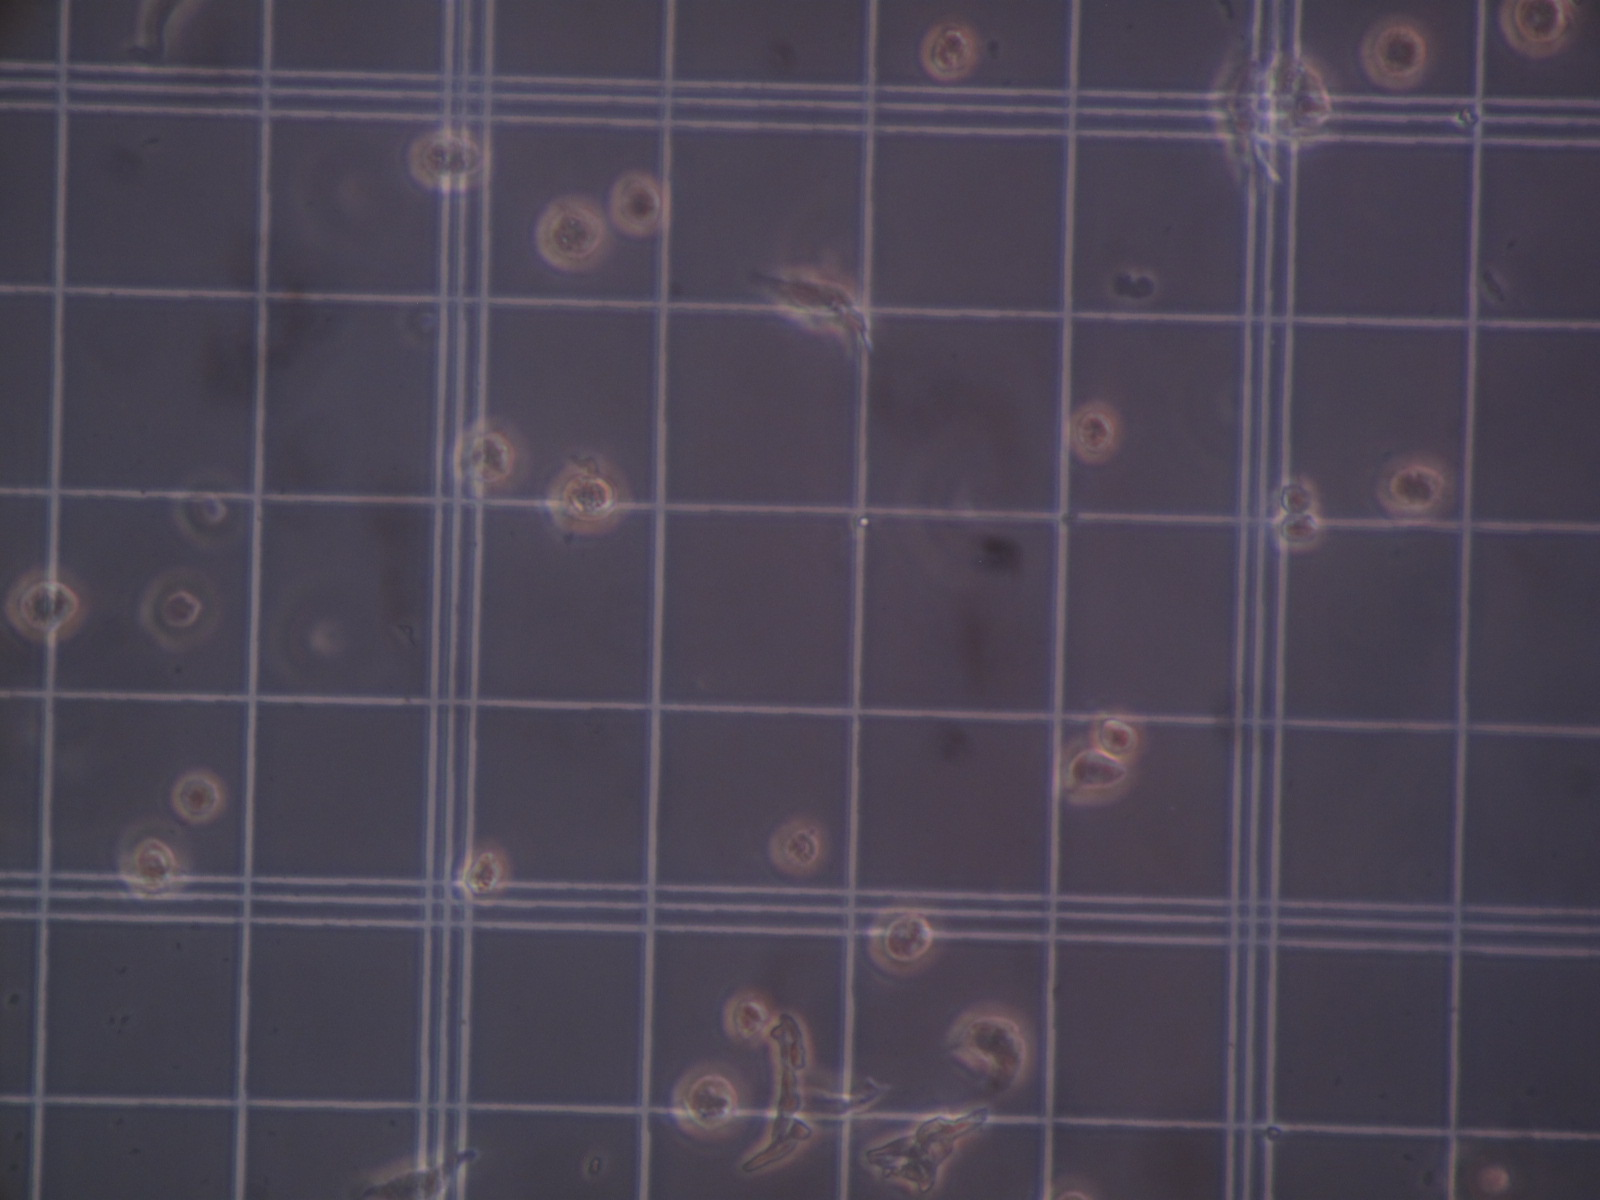hemo: (946, 998, 1034, 1087), (666, 1059, 748, 1142), (4, 565, 89, 642), (546, 461, 631, 533), (532, 195, 610, 274), (139, 567, 212, 648), (452, 417, 530, 492), (404, 126, 491, 192), (116, 819, 188, 897), (1058, 735, 1134, 808), (1376, 453, 1454, 523), (868, 903, 937, 978), (1361, 15, 1427, 89), (175, 470, 234, 546), (609, 169, 666, 239), (1499, 1, 1570, 58), (1065, 397, 1120, 464), (456, 846, 511, 908), (1089, 705, 1146, 763), (918, 21, 974, 82), (769, 817, 824, 877), (171, 766, 226, 824), (723, 988, 770, 1044), (1269, 514, 1325, 550), (1274, 474, 1320, 516)
